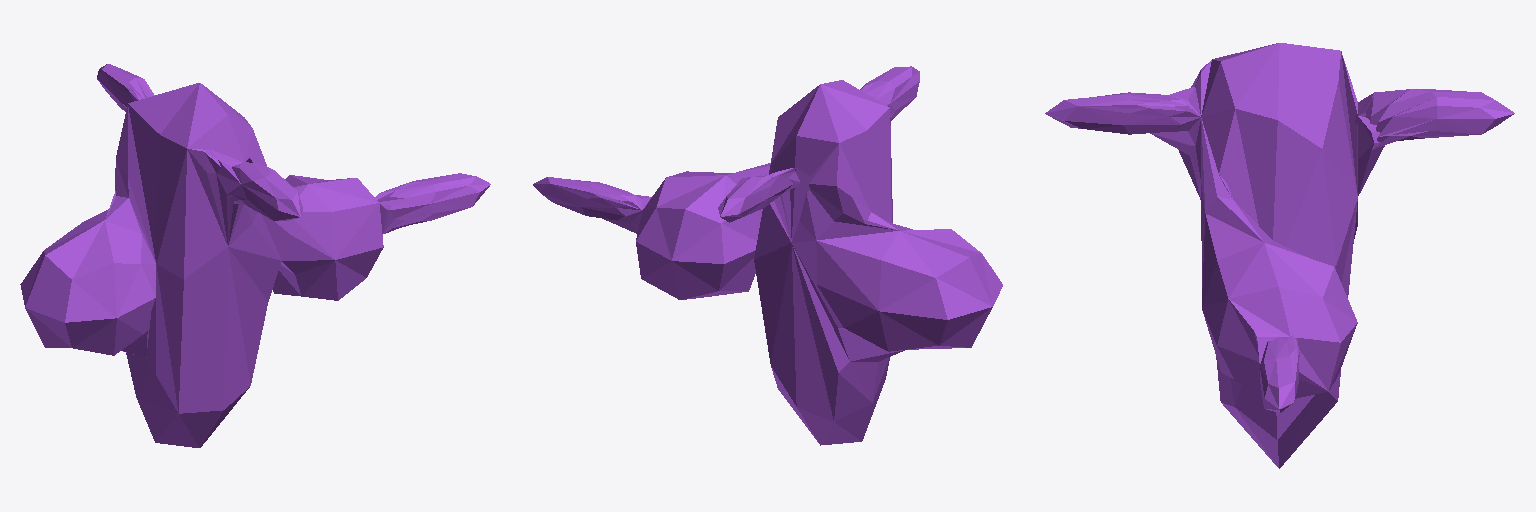
The robot description file, URDF, robot "procedural_obj_0001":
<?xml version="0.0" ?>
<!-- based on data/cube.urdf -->
<robot name="procedural_obj_0001">
  <link name="procedural_obj_0001">
    <contact>
      <lateral_friction value="1.0"/>
      <rolling_friction value="0.0"/>
      <contact_cfm value="0.0"/>
      <contact_erp value="1.0"/>
    </contact>
    <inertial>
      <origin rpy="0 0 0" xyz="0 0 0"/>
       <mass value="1.0"/>
       <inertia ixx="1" ixy="0" ixz="0" iyy="1" iyz="0" izz="1"/>
    </inertial>
    <visual>
      <origin rpy="0 0 0" xyz="0 0 0"/>
      <geometry>
	<mesh filename="0001.obj" scale="1 1 1"/>
      </geometry>
       <material name="random_colour">
        <color rgba="0.686 0.392 0.865 1"/>
      </material>
    </visual>
    <collision>
      <origin rpy="0 0 0" xyz="0 0 0"/>
      <geometry>
	<mesh filename="0001.vhacd.obj" scale="1 1 1"/>
      </geometry>
    </collision>
  </link>
</robot>

--- Facts derived from the render (not from the file) ---
3 views of the same robot in one strip: view 1: azimuth 30°, elevation 25°; view 2: azimuth 150°, elevation 25°; view 3: azimuth 270°, elevation 25° (orthographic).
Robot: procedural_obj_0001 — 1 links, 0 joints (none); root link procedural_obj_0001; default pose: all joints at 0.
Links seen in each view (by area): view 1: procedural_obj_0001; view 2: procedural_obj_0001; view 3: procedural_obj_0001.
Link boxes in pixels (x1,y1,x2,y2): procedural_obj_0001: [20, 64, 490, 447]; procedural_obj_0001: [533, 66, 1002, 445]; procedural_obj_0001: [1045, 43, 1514, 468].
Size in the robot's own frame: 0.12 by 0.09 by 0.09 metres.
1 mesh visuals loaded from 1 distinct referenced files (1 OBJ).